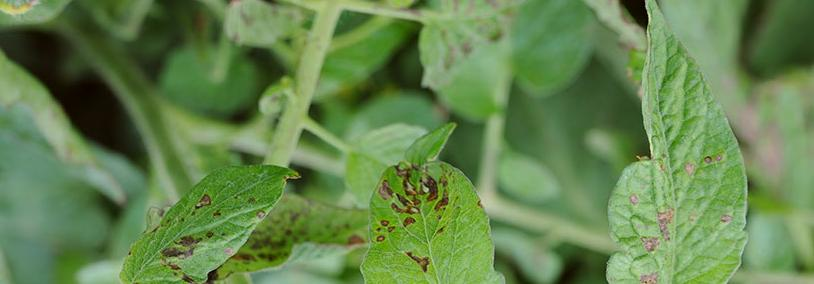Tomato leaf bacterial spot: (599, 0, 753, 284), (102, 140, 267, 284), (370, 121, 509, 284)
